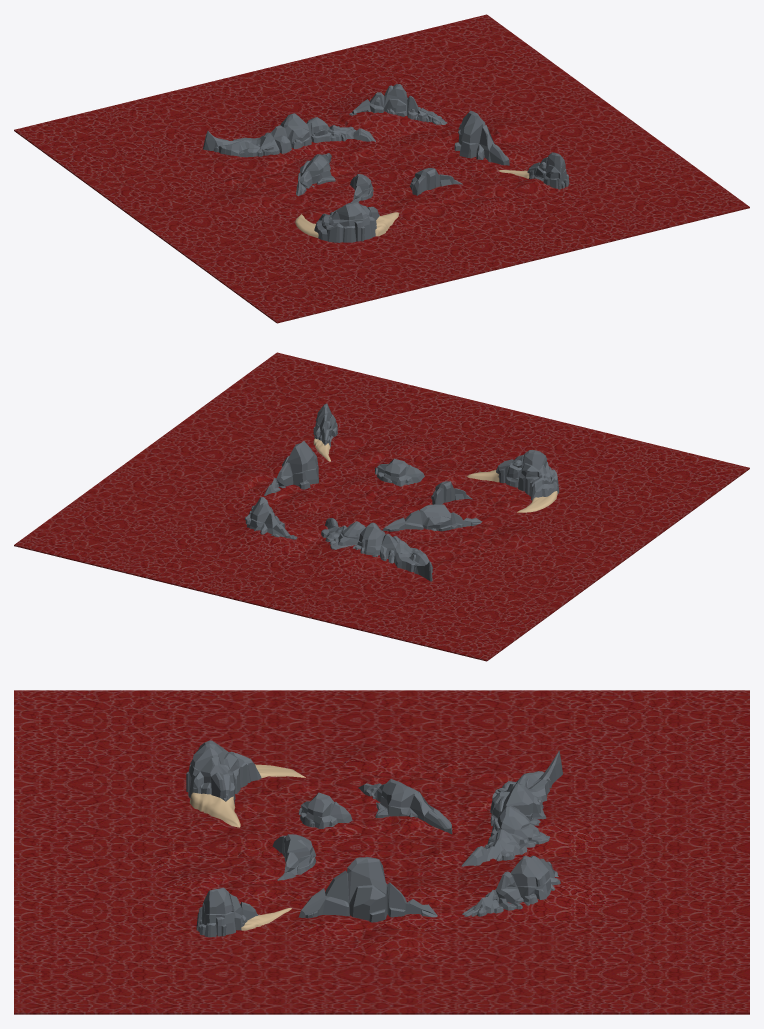
Rendered from 远景山和海洋.fbx.
3 renders of one model, top to bottom at view 1: azimuth 30°, elevation 25°; view 2: azimuth 150°, elevation 25°; view 3: azimuth 270°, elevation 25°, orthographic. The views are drawn at different scales.
Parts seen in each view (by area): view 1: Cube.006, 立方体.041, 立方体.044, 立方体.021, 立方体.042, 立方体.039, 立方体.046, 立方体.001; view 2: Cube.006, 立方体.041, 立方体.044, 立方体.021, 立方体.046, 立方体.042, 立方体.001, 立方体.039, 立方体.047; view 3: Cube.006, 立方体.041, 立方体.021, 立方体.044, 立方体.042, 立方体.039, 立方体.046, 立方体.001, 立方体.047.
Boxes of the visible parts, x1=… form: Cube.006: x1=14, y1=14, x2=749, y2=323; 立方体.041: x1=203, y1=113, x2=375, y2=157; 立方体.044: x1=295, y1=202, x2=399, y2=242; 立方体.021: x1=454, y1=110, x2=509, y2=165; 立方体.042: x1=349, y1=84, x2=447, y2=124; 立方体.039: x1=498, y1=152, x2=569, y2=189; 立方体.046: x1=296, y1=153, x2=335, y2=196; 立方体.001: x1=409, y1=168, x2=462, y2=195; Cube.006: x1=14, y1=352, x2=749, y2=661; 立方体.041: x1=321, y1=518, x2=432, y2=581; 立方体.044: x1=467, y1=449, x2=559, y2=512; 立方体.021: x1=264, y1=441, x2=318, y2=495; 立方体.046: x1=382, y1=504, x2=482, y2=531; 立方体.042: x1=244, y1=497, x2=297, y2=539; 立方体.001: x1=375, y1=458, x2=424, y2=486; 立方体.039: x1=313, y1=403, x2=337, y2=461; 立方体.047: x1=431, y1=481, x2=472, y2=504; Cube.006: x1=14, y1=690, x2=749, y2=1014; 立方体.041: x1=461, y1=750, x2=562, y2=866; 立方体.021: x1=298, y1=857, x2=437, y2=922; 立方体.044: x1=186, y1=740, x2=305, y2=827; 立方体.042: x1=462, y1=855, x2=560, y2=916; 立方体.039: x1=196, y1=887, x2=291, y2=937; 立方体.046: x1=358, y1=779, x2=452, y2=834; 立方体.001: x1=272, y1=834, x2=316, y2=880; 立方体.047: x1=298, y1=792, x2=352, y2=828.
Size of the model in its own units: 11373 by 1152 by 10956.
